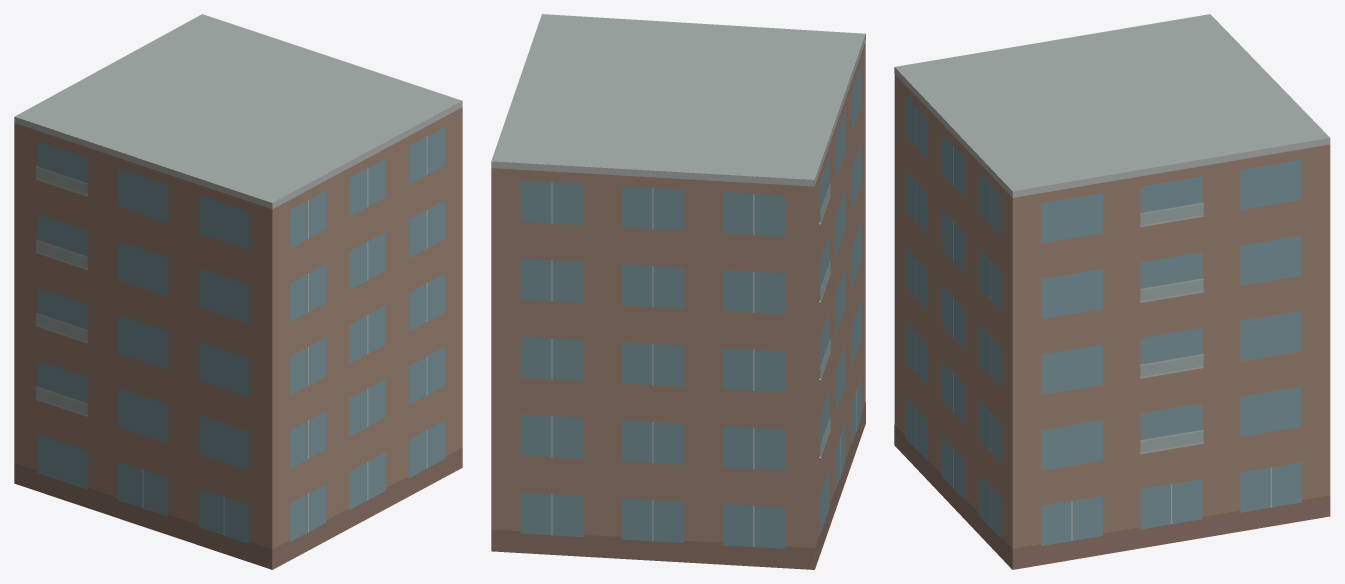
Rendered from survey-upis-33015787.glb.
The picture shows the model from 3 angles, left to right: view 1: azimuth 30°, elevation 25°; view 2: azimuth 150°, elevation 25°; view 3: azimuth 270°, elevation 25°; orthographic projection. The views are drawn at different scales.
Visible parts, largest first — view 1: survey-upis-33015787.tmp; view 2: survey-upis-33015787.tmp; view 3: survey-upis-33015787.tmp.
Boxes of the visible parts, x1,y1,x2,y2 form: survey-upis-33015787.tmp: [14, 14, 462, 569]; survey-upis-33015787.tmp: [491, 14, 865, 569]; survey-upis-33015787.tmp: [894, 14, 1330, 569].
Bounding box in the file's own units: 14.39 × 14.3 × 14.94.
